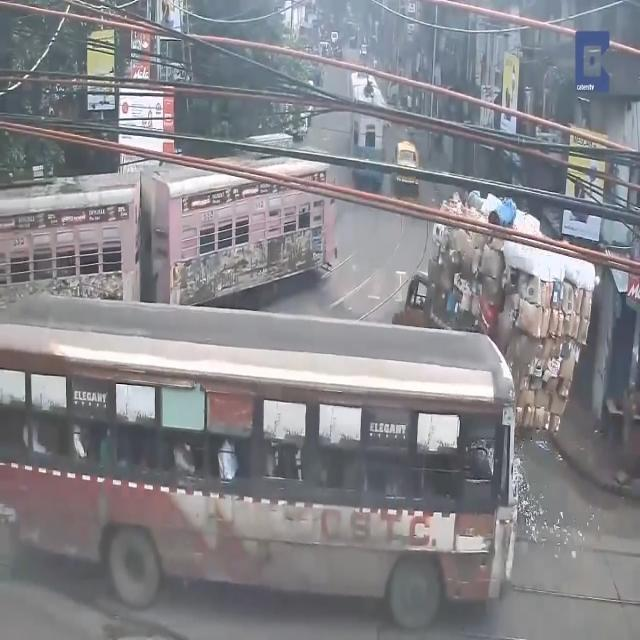accident: (387, 178, 597, 639)
